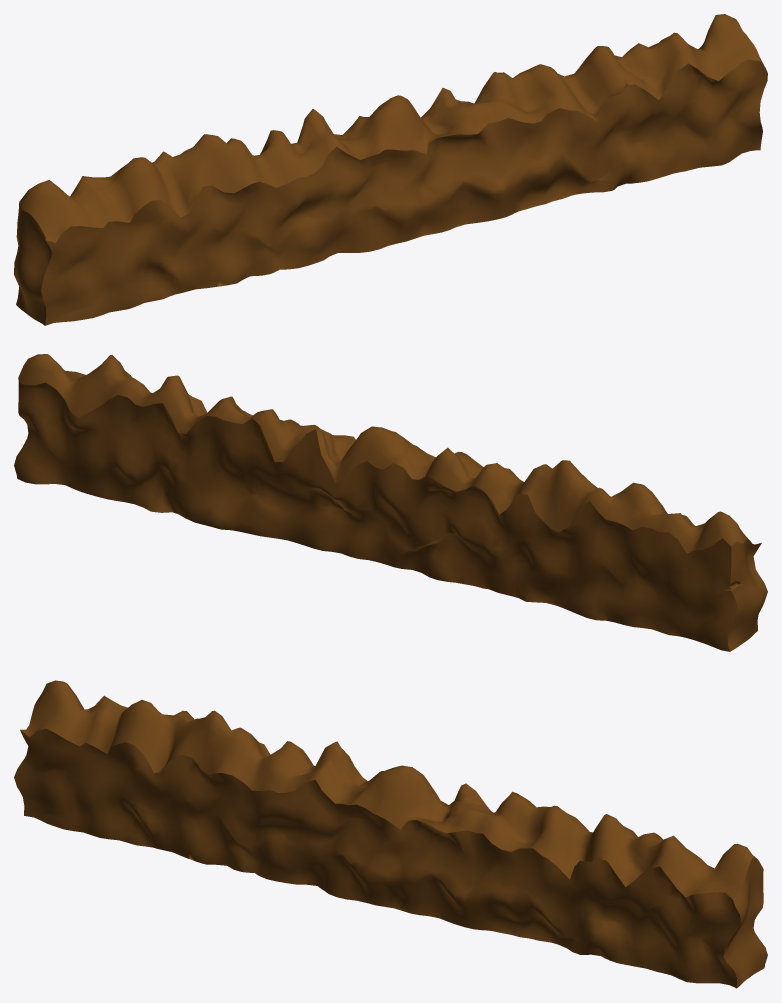
The model's file is Rock1.FBX.
3 views of the same model, one above another, from view 1: azimuth 30°, elevation 25°; view 2: azimuth 150°, elevation 25°; view 3: azimuth 330°, elevation 25° (orthographic).
Parts seen in each view (by area): view 1: Box001; view 2: Box001; view 3: Box001.
Boxes of the visible parts, x1=… form: Box001: x1=14, y1=14, x2=767, y2=325; Box001: x1=14, y1=354, x2=767, y2=651; Box001: x1=14, y1=680, x2=767, y2=988.
Bounding box in the file's own units: 3076 × 554 × 293.
